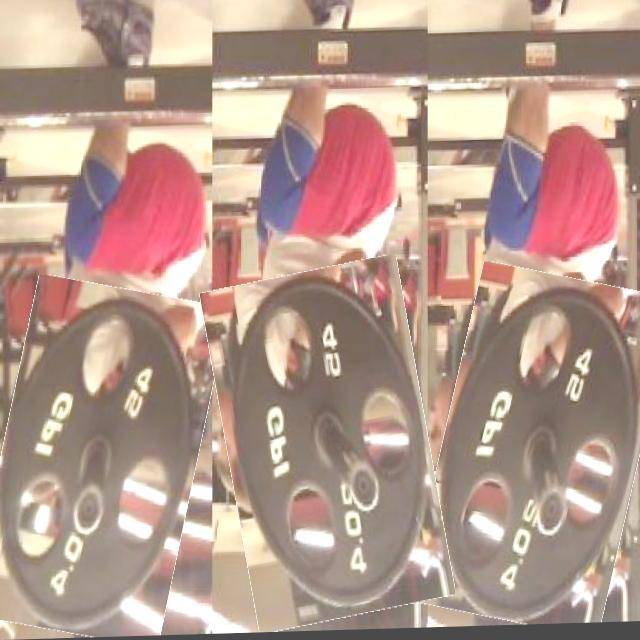barbell: (215, 263, 442, 632), (426, 271, 640, 631), (1, 280, 213, 640)
